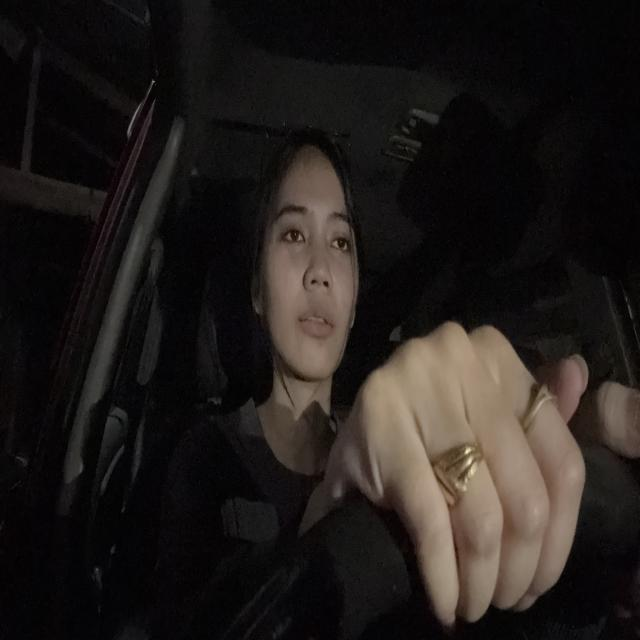open: (270, 195, 312, 258), (322, 206, 354, 269)
